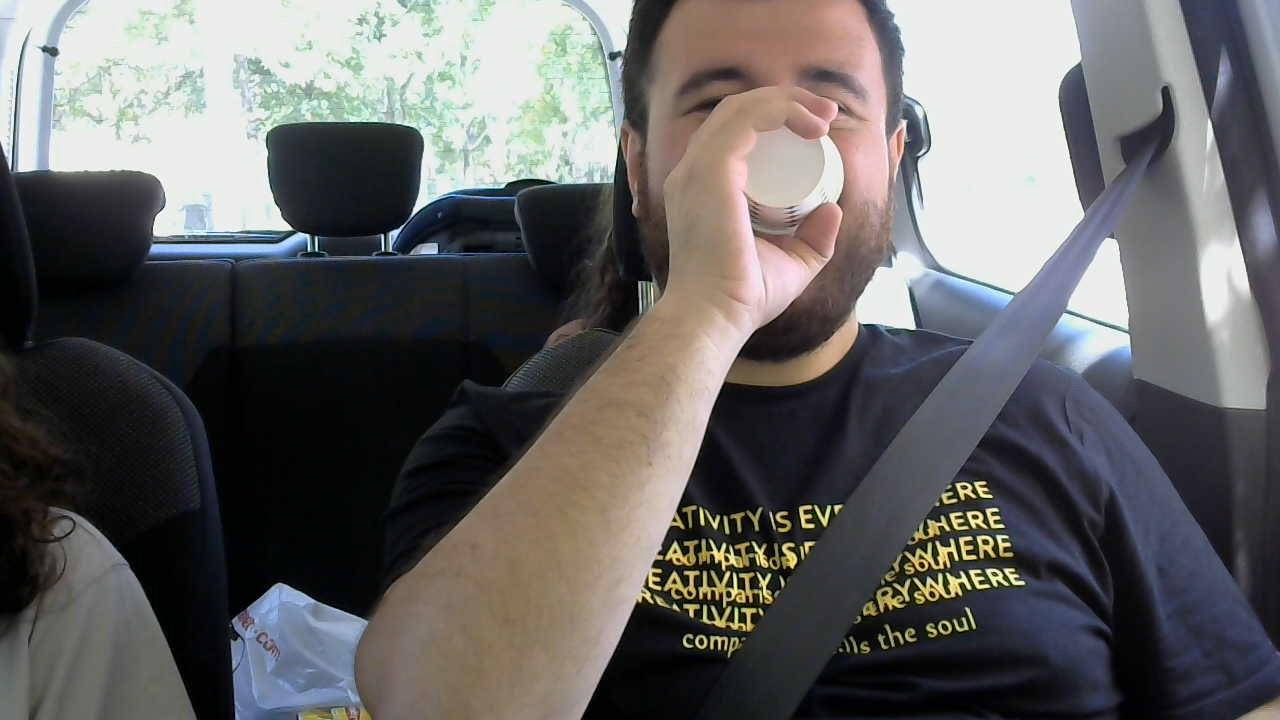Drinking: (697, 86, 848, 270)
